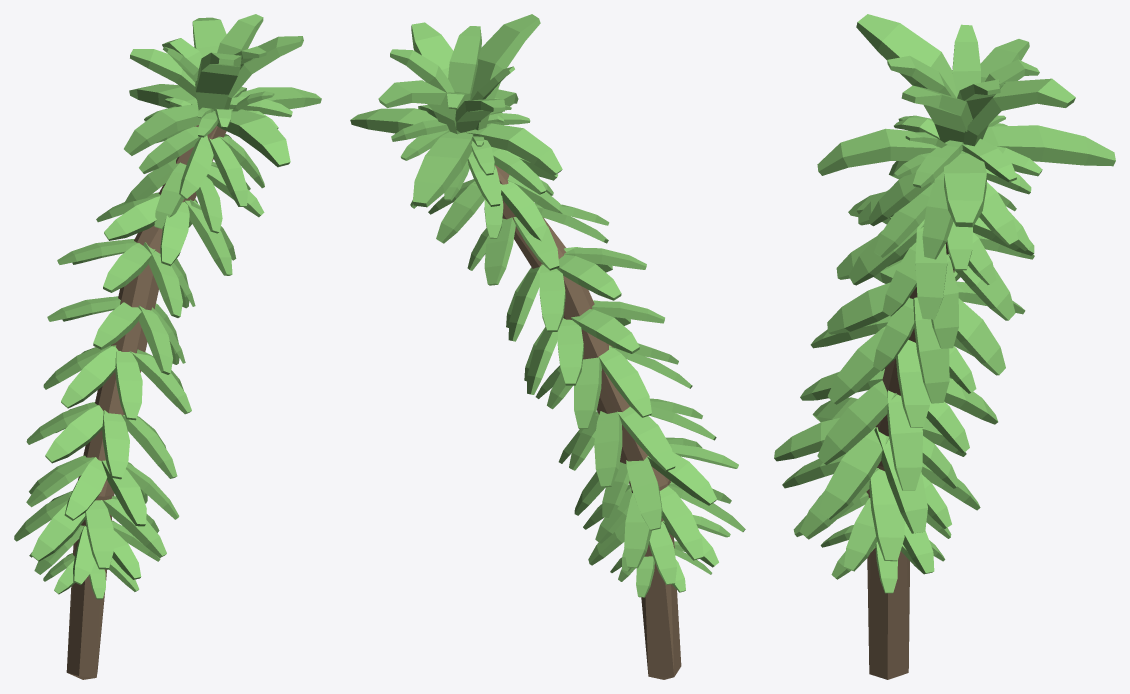
File: TropicalPlant.fbx
3 renders of one model, left to right at view 1: azimuth 30°, elevation 25°; view 2: azimuth 150°, elevation 25°; view 3: azimuth 270°, elevation 25°, orthographic. The views are drawn at different scales.
Parts seen in each view (by area): view 1: Cube.001, Cube.009, Cube.003, Cube.004, Cube.070, Cube.059, Cube.085, Cube.058, Cube.071, Cube.073, Cube.012, Cube.030 (+38 smaller); view 2: Cube.001, Cube, Cube.009, Cube.004, Cube.011, Cube.068, Cube.060, Cube.083, Cube.069, Cube.014, Cube.075, Cube.061 (+34 smaller); view 3: Cube.001, Cube, Cube.003, Cube.009, Cube.078, Cube.011, Cube.065, Cube.002, Cube.066, Cube.054, Cube.080, Cube.012 (+43 smaller).
Part boxes in pixels (x1=…): Cube.001: x1=66, y1=125, x2=226, y2=679; Cube.009: x1=195, y1=52, x2=241, y2=110; Cube.003: x1=217, y1=108, x2=290, y2=167; Cube.004: x1=124, y1=104, x2=201, y2=155; Cube.070: x1=45, y1=405, x2=103, y2=463; Cube.059: x1=61, y1=345, x2=118, y2=408; Cube.085: x1=85, y1=500, x2=113, y2=569; Cube.058: x1=115, y1=351, x2=142, y2=420; Cube.071: x1=102, y1=410, x2=129, y2=479; Cube.073: x1=64, y1=457, x2=107, y2=520; Cube.012: x1=224, y1=36, x2=303, y2=109; Cube.030: x1=208, y1=137, x2=247, y2=206; Cube.001: x1=494, y1=165, x2=681, y2=679; Cube: x1=412, y1=131, x2=473, y2=207; Cube.009: x1=471, y1=14, x2=540, y2=130; Cube.004: x1=464, y1=123, x2=562, y2=175; Cube.011: x1=378, y1=80, x2=460, y2=134; Cube.068: x1=594, y1=411, x2=622, y2=487; Cube.060: x1=599, y1=345, x2=651, y2=417; Cube.083: x1=659, y1=486, x2=703, y2=560; Cube.069: x1=617, y1=406, x2=675, y2=471; Cube.014: x1=448, y1=26, x2=481, y2=94; Cube.075: x1=626, y1=457, x2=662, y2=530; Cube.061: x1=574, y1=357, x2=601, y2=428; Cube.001: x1=866, y1=242, x2=954, y2=679; Cube: x1=982, y1=125, x2=1115, y2=166; Cube.003: x1=817, y1=128, x2=937, y2=175; Cube.009: x1=856, y1=14, x2=957, y2=97; Cube.078: x1=819, y1=427, x2=889, y2=519; Cube.011: x1=963, y1=78, x2=1075, y2=146; Cube.065: x1=817, y1=380, x2=896, y2=464; Cube.002: x1=944, y1=151, x2=986, y2=227; Cube.066: x1=887, y1=390, x2=922, y2=490; Cube.054: x1=913, y1=297, x2=949, y2=403; Cube.080: x1=869, y1=469, x2=904, y2=561; Cube.012: x1=901, y1=85, x2=972, y2=142.
Size of the model in its own units: 206 by 354 by 148.
